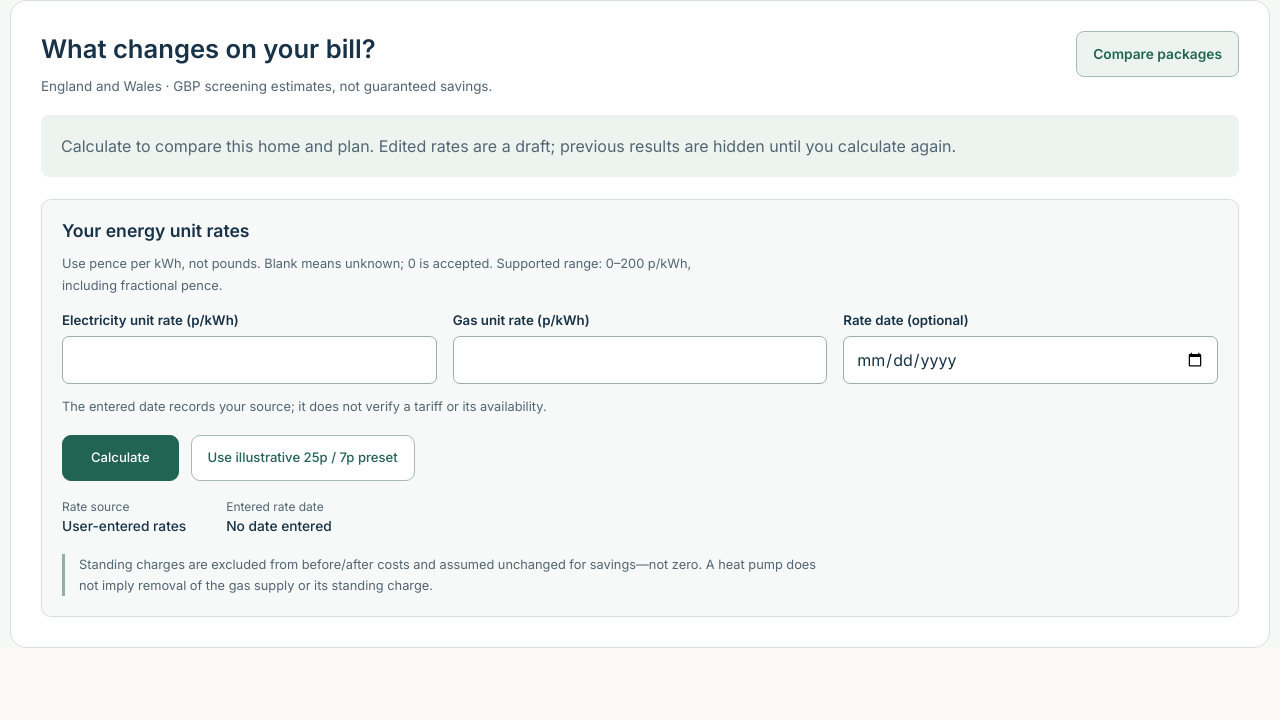
Dashboard money and shared Costs & packages › prominently labels before/after, signed annual/monthly savings and installation costs
Click the button "Use illustrative 25p / 7p preset".
click(303, 458)  # box [191,435,415,481]
(page scrolled)
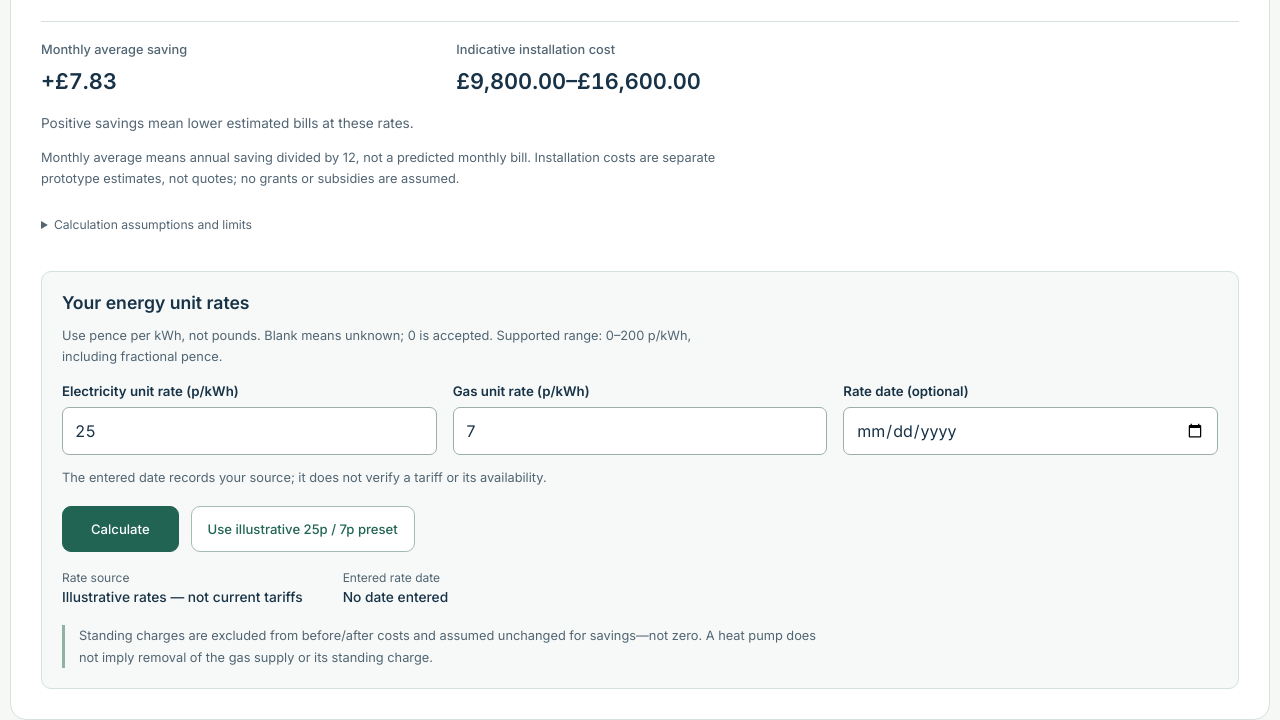
Expected: the text "+£7.83" is shown, [41,68,117,94]
Expected: the text "£9,800.00–£16,600.00" is shown, [456,68,701,94]
Expected: the text "Illustrative rates — not current tariffs" is shown, [62,589,303,605]
